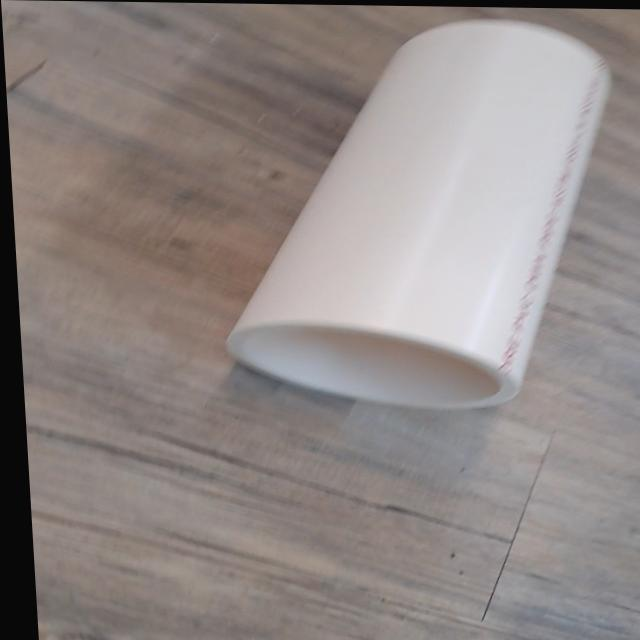CORAL: (197, 11, 640, 422)
